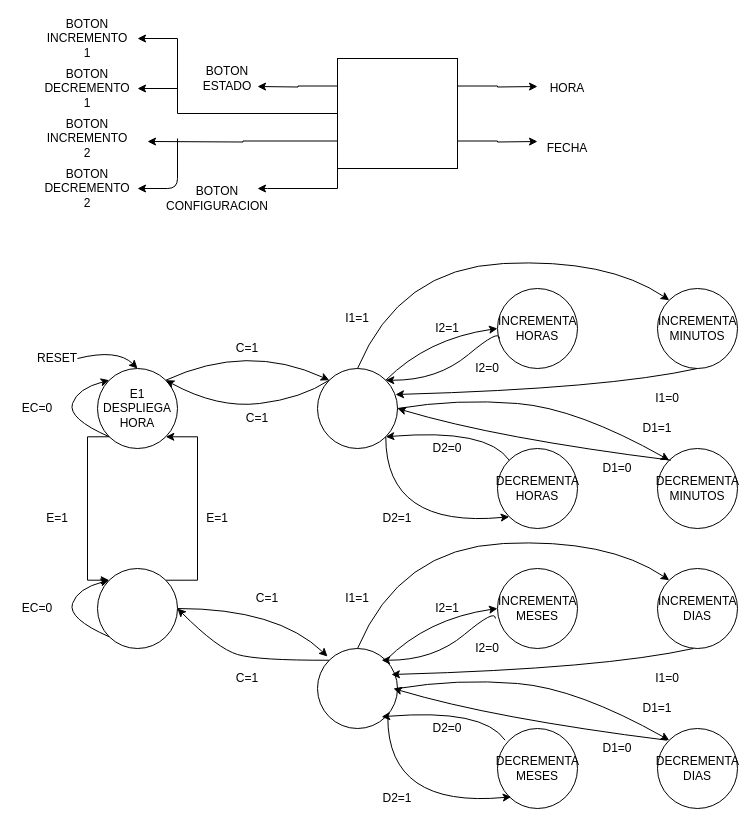
This 755x826 diagram has some shape labels left out. Each missing label, with the centre of its shape:
C1 CONFIGURA HORA: the point at 357,408
C2 CONFIGURA FECHA: the point at 357,688
E2 DESPLIEGA FECHA: the point at 137,608
MAQUINA DE ESTADOS: the point at 397,113
